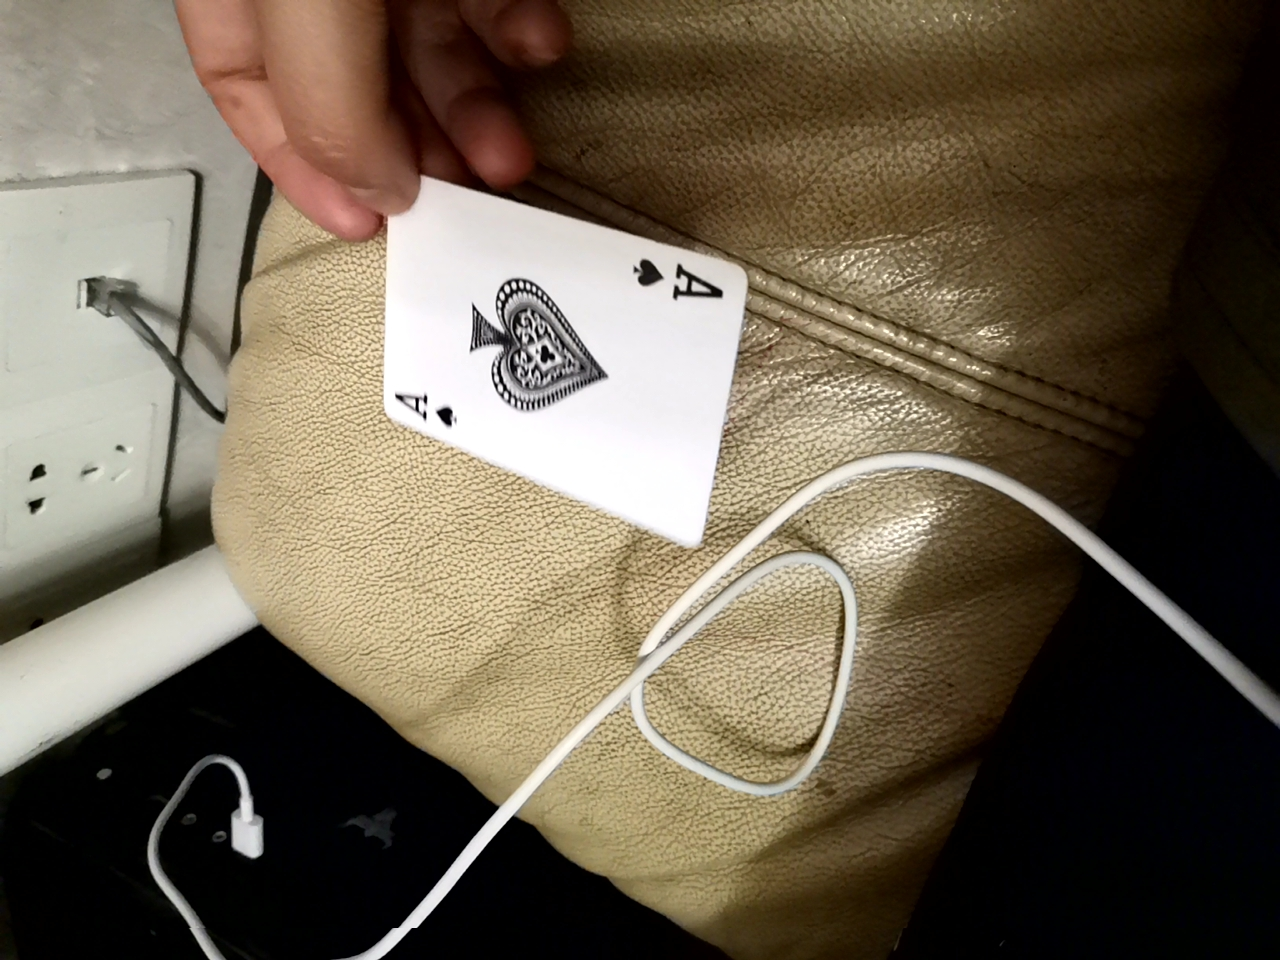ht a: (376, 183, 739, 548)
